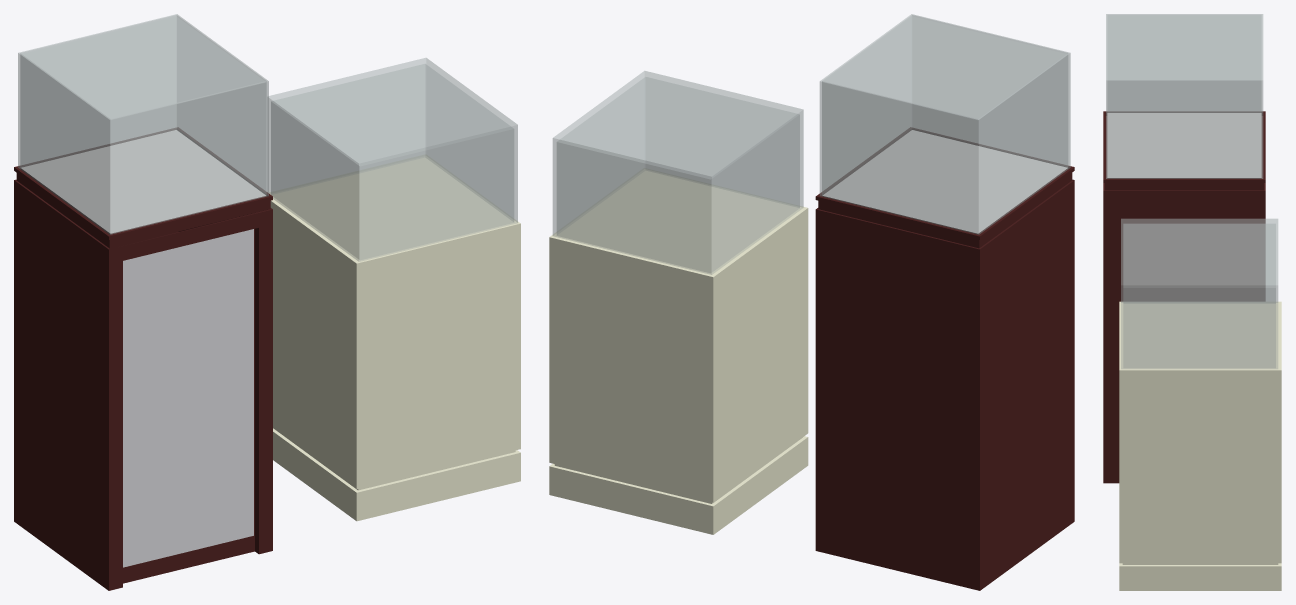
File: Display+Cases.fbx
3 renders of one model, left to right at view 1: azimuth 30°, elevation 25°; view 2: azimuth 150°, elevation 25°; view 3: azimuth 270°, elevation 25°, orthographic. The views are drawn at different scales.
Visible parts, largest first — view 1: Group3, Group5, Group2, Group6; view 2: Group3, Group5, Group2, Group6; view 3: Group5, Group3, Group2, Group6.
Part boxes in pixels (x1,y1,x2,y2): Group3: [14, 127, 272, 590]; Group5: [269, 155, 520, 521]; Group2: [18, 14, 268, 234]; Group6: [267, 58, 517, 261]; Group3: [815, 127, 1074, 590]; Group5: [549, 168, 808, 534]; Group2: [819, 14, 1070, 234]; Group6: [552, 71, 803, 274]; Group5: [1119, 301, 1281, 590]; Group3: [1103, 111, 1265, 483]; Group2: [1106, 14, 1263, 178]; Group6: [1121, 218, 1278, 368].
Bounding box in the file's own units: 61.59 × 65.53 × 26.36.
